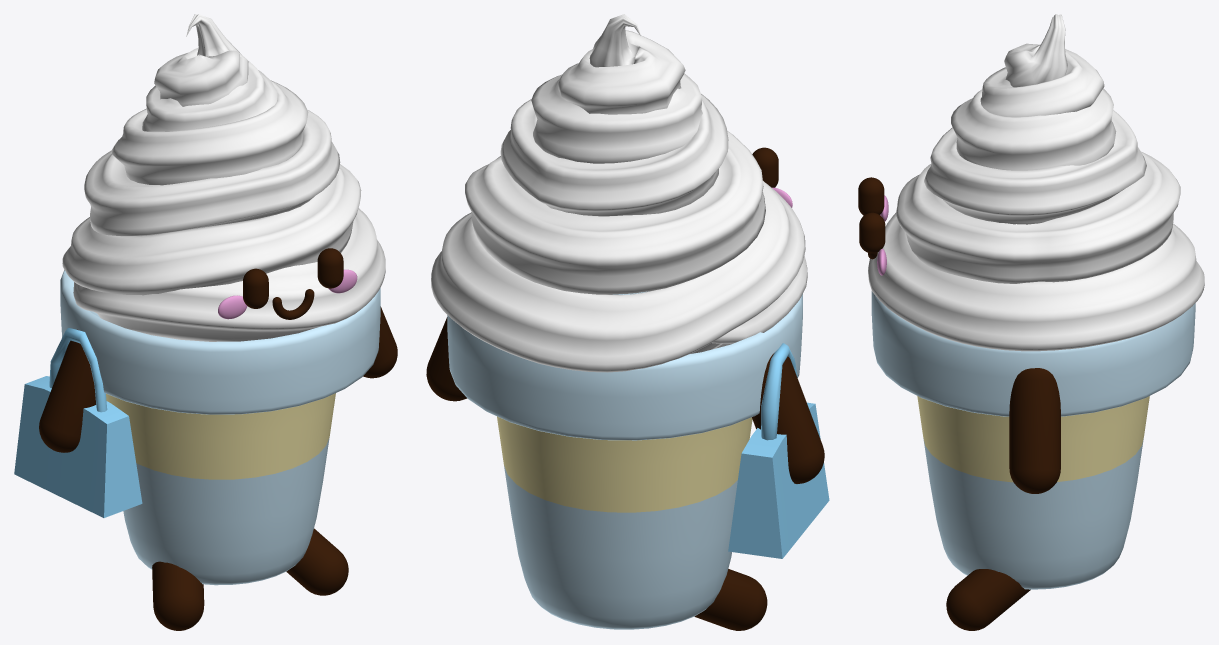
File: AI Mascot Standing.fbx
3 renders of one model, left to right at view 1: azimuth 30°, elevation 25°; view 2: azimuth 150°, elevation 25°; view 3: azimuth 270°, elevation 25°, orthographic. The views are drawn at different scales.
Parts seen in each view (by area): view 1: cream, cone, Bag, Left foot, Right hand, Left hand, Right eye, Left eye, Mouth, Left blush; view 2: cream, cone, Bag, Right hand, Left foot, Left hand, Left eye; view 3: cream, cone, Left hand, Left foot, Right eye, Left eye.
Part boxes in pixels (x1=…): cream: x1=62, y1=14, x2=385, y2=341; cone: x1=60, y1=270, x2=380, y2=585; Bag: x1=14, y1=328, x2=142, y2=517; Left foot: x1=152, y1=528, x2=348, y2=630; Right hand: x1=39, y1=329, x2=95, y2=452; Left hand: x1=363, y1=306, x2=397, y2=378; Right eye: x1=317, y1=248, x2=343, y2=288; Left eye: x1=243, y1=268, x2=268, y2=308; Mouth: x1=272, y1=289, x2=314, y2=319; Left blush: x1=218, y1=295, x2=247, y2=319; cream: x1=431, y1=14, x2=807, y2=372; cone: x1=447, y1=291, x2=802, y2=629; Bag: x1=728, y1=343, x2=829, y2=558; Right hand: x1=752, y1=353, x2=824, y2=483; Left foot: x1=694, y1=569, x2=767, y2=630; Left hand: x1=426, y1=317, x2=466, y2=401; Left eye: x1=752, y1=147, x2=778, y2=187; cream: x1=868, y1=14, x2=1204, y2=351; cone: x1=871, y1=291, x2=1195, y2=589; Left hand: x1=1009, y1=368, x2=1060, y2=493; Left foot: x1=946, y1=569, x2=1030, y2=630; Right eye: x1=859, y1=212, x2=885, y2=253; Left eye: x1=858, y1=177, x2=884, y2=215.
Bounding box in the file's own units: 346 × 534 × 292.
